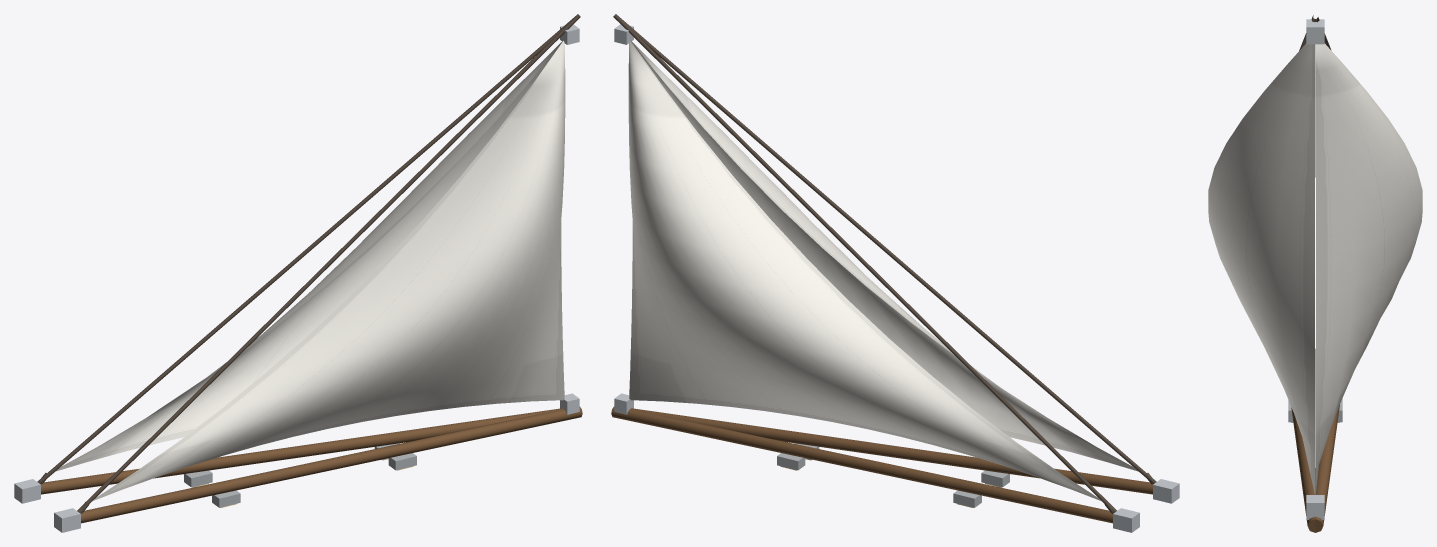
Rendered from aiquiz_stadium_sail_rigs.glb.
The picture shows the model from 3 angles, left to right: view 1: azimuth 30°, elevation 25°; view 2: azimuth 150°, elevation 25°; view 3: azimuth 270°, elevation 25°; orthographic projection. The views are drawn at different scales.
Parts seen in each view (by area): view 1: AQS_SailRig_R, AQS_SailRig_L; view 2: AQS_SailRig_L, AQS_SailRig_R; view 3: AQS_SailRig_R, AQS_SailRig_L.
Part boxes in pixels (left/top/right/bottom): AQS_SailRig_R: left=54, top=14, right=582, bottom=532; AQS_SailRig_L: left=14, top=14, right=580, bottom=503; AQS_SailRig_L: left=611, top=14, right=1139, bottom=532; AQS_SailRig_R: left=613, top=14, right=1179, bottom=503; AQS_SailRig_R: left=1208, top=15, right=1324, bottom=532; AQS_SailRig_L: left=1314, top=17, right=1422, bottom=532.
Bounding box in the file's own units: 8.64 × 6.14 × 2.3.
Materials: 3 (1 with a texture image).
